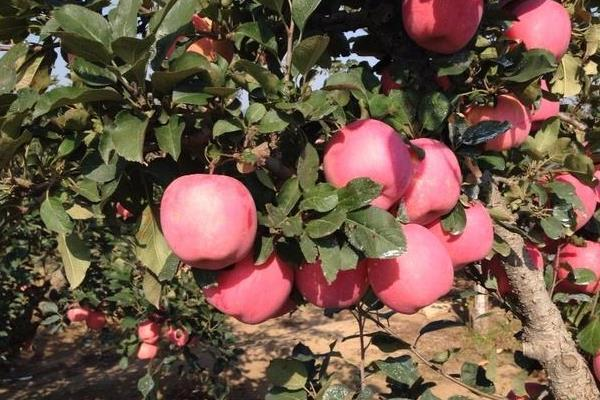apple: (158, 172, 258, 271), (321, 117, 410, 211), (368, 222, 455, 315), (202, 249, 292, 324), (397, 136, 460, 227), (425, 202, 493, 269), (400, 1, 481, 56), (505, 1, 573, 66)
